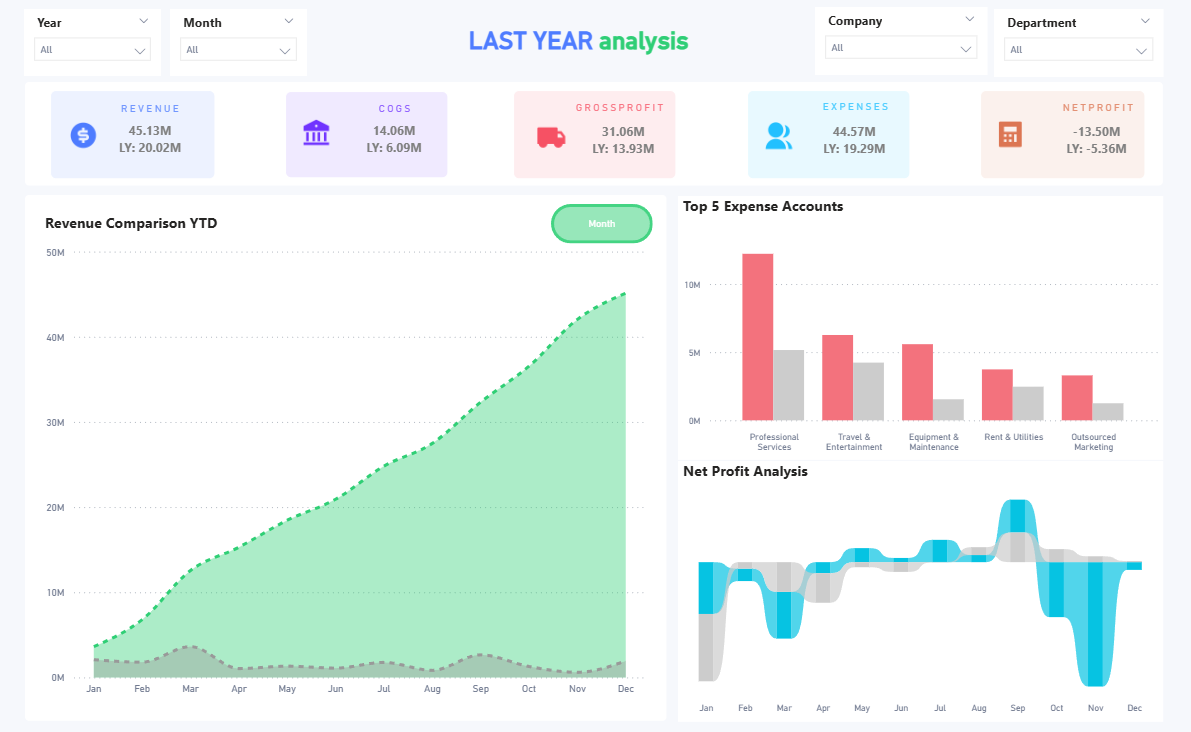

Layout of this report page (visuals, bound fields, positions):
{"tool":"powerbi","page":{"name":"Last Year Analysis ","canvas":[1280,800],"ordinal":3},"visuals":[{"type":"basicShape","box":[100.7,99.7,1120.8,102.1],"z":0,"group":"g1"},{"type":"group","id":"g1","title":"KPI","box":[100.7,99.7,1120.8,102.1],"z":0},{"type":"basicShape","box":[125.6,107.5,162.5,87.5],"z":1000,"group":"g1"},{"type":"basicShape","box":[100.1,211.1,631.7,517.5],"z":1000},{"type":"basicShape","box":[356.9,108.5,161.2,86.2],"z":2000,"group":"g1"},{"type":"card","fields":{"Values":["Transactions.Revenue Display LY"]},"box":[160.7,121.4,126.7,70],"z":2000},{"type":"basicShape","box":[581.9,107.5,161.2,87.5],"z":3000,"group":"g1"},{"type":"basicShape","box":[811.9,107.5,161.2,87.5],"z":4000,"group":"g1"},{"type":"textbox","box":[181.7,114.9,84.1,24.7],"z":4000},{"type":"basicShape","box":[1041.9,107.5,162.5,87.5],"z":5000,"group":"g1"},{"type":"card","fields":{"Values":["Transactions.COGS Display LY"]},"box":[400.7,121.4,126.7,70],"z":5000},{"type":"image","box":[136.9,132.2,42.5,40],"z":6000,"group":"g1"},{"type":"textbox","box":[421.4,115.3,85.6,24.4],"z":6000},{"type":"image","box":[366.9,129.7,42.5,40],"z":7000,"group":"g1"},{"type":"card","fields":{"Values":["Transactions.Gross Profit Display LY"]},"box":[626.9,122.6,127.1,70],"z":7000},{"type":"image","box":[598.2,133.5,41.2,40],"z":8000,"group":"g1"},{"type":"textbox","box":[629.1,114.2,113.3,26.7],"z":8000},{"type":"image","box":[821.9,133.5,42.5,40],"z":9000,"group":"g1"},{"type":"card","fields":{"Values":["Expenses.Expenses Display LY"]},"box":[854,122.6,127.1,70],"z":9000},{"type":"image","box":[1050.7,130.9,41.2,40],"z":10000,"group":"g1"},{"type":"textbox","box":[868,113.1,101.1,25.6],"z":10000},{"type":"card","fields":{"Values":["Transactions.Net Profit Display LY"]},"box":[1092.8,122.3,127.5,70],"z":11000},{"type":"textbox","box":[1106.9,114.2,100,25],"z":12000},{"type":"clusteredColumnChart","title":"Top 5 Expense Accounts","fields":{"Category":["Expenses.Expense Category"],"Y":["Expenses.Expense CY Cumulative","Expenses.Expense LY Cumulative"]},"box":[743.4,212,477.5,260],"z":13000},{"type":"ribbonChart","title":"Net Profit Analysis","fields":{"Category":["DateTable.MonthNameShort"],"Y":["Transactions.Net Profit CY Cumulative","Transactions.Net Profit LY Cumulative"]},"box":[743.9,472.5,478,257],"z":14000},{"type":"areaChart","title":"Revenue Comparison YTD","fields":{"Category":["DateTable.MonthNameShort"],"Y":["Transactions.Tooltip Revenue YTD CY","Transactions.Tooltip Revenue YTD LY"]},"box":[115.2,228.2,601.2,482.6],"z":16000},{"type":"actionButton","title":"Month","box":[618.3,220.2,100.4,38.8],"z":18000},{"type":"slicer","fields":{"Values":["MonthFilter.MonthName"]},"box":[243,27.9,134.5,66.4],"z":19000},{"type":"slicer","fields":{"Values":["DateTable.Year"]},"box":[99.3,27.9,135.5,66.4],"z":20000},{"type":"slicer","fields":{"Values":["Transactions.Company"]},"box":[878.6,25.9,170,66.7],"z":21000},{"type":"slicer","fields":{"Values":["Transactions.Department"]},"box":[1055.3,27.6,166.7,66.7],"z":22000},{"type":"textbox","box":[519,40.2,253.6,44.3],"z":23000}]}

Visuals, with their boxes in screenshot pixels (x1, y1, x2, y2), scaled from the page's 1280x800 canvas onto the 1191x732 screenshot:
basicShape: [left=94, top=91, right=1137, bottom=185]
"KPI" group: [left=94, top=91, right=1137, bottom=185]
basicShape: [left=117, top=98, right=268, bottom=178]
basicShape: [left=93, top=193, right=681, bottom=667]
basicShape: [left=332, top=99, right=482, bottom=178]
card - Transactions.Revenue Display LY: [left=150, top=111, right=267, bottom=175]
basicShape: [left=541, top=98, right=691, bottom=178]
basicShape: [left=755, top=98, right=905, bottom=178]
textbox: [left=169, top=105, right=247, bottom=128]
basicShape: [left=969, top=98, right=1121, bottom=178]
card - Transactions.COGS Display LY: [left=373, top=111, right=491, bottom=175]
image: [left=127, top=121, right=167, bottom=158]
textbox: [left=392, top=105, right=472, bottom=128]
image: [left=341, top=119, right=381, bottom=155]
card - Transactions.Gross Profit Display LY: [left=583, top=112, right=702, bottom=176]
image: [left=557, top=122, right=595, bottom=159]
textbox: [left=585, top=104, right=691, bottom=129]
image: [left=765, top=122, right=804, bottom=159]
card - Expenses.Expenses Display LY: [left=795, top=112, right=913, bottom=176]
image: [left=978, top=120, right=1016, bottom=156]
textbox: [left=808, top=103, right=902, bottom=127]
card - Transactions.Net Profit Display LY: [left=1017, top=112, right=1135, bottom=176]
textbox: [left=1030, top=104, right=1123, bottom=127]
"Top 5 Expense Accounts" clusteredColumnChart: [left=692, top=194, right=1136, bottom=432]
"Net Profit Analysis" ribbonChart: [left=692, top=432, right=1137, bottom=667]
"Revenue Comparison YTD" areaChart: [left=107, top=209, right=667, bottom=650]
"Month" actionButton: [left=575, top=201, right=669, bottom=237]
slicer - MonthFilter.MonthName: [left=226, top=26, right=351, bottom=86]
slicer - DateTable.Year: [left=92, top=26, right=218, bottom=86]
slicer - Transactions.Company: [left=818, top=24, right=976, bottom=85]
slicer - Transactions.Department: [left=982, top=25, right=1137, bottom=86]
textbox: [left=483, top=37, right=719, bottom=77]
